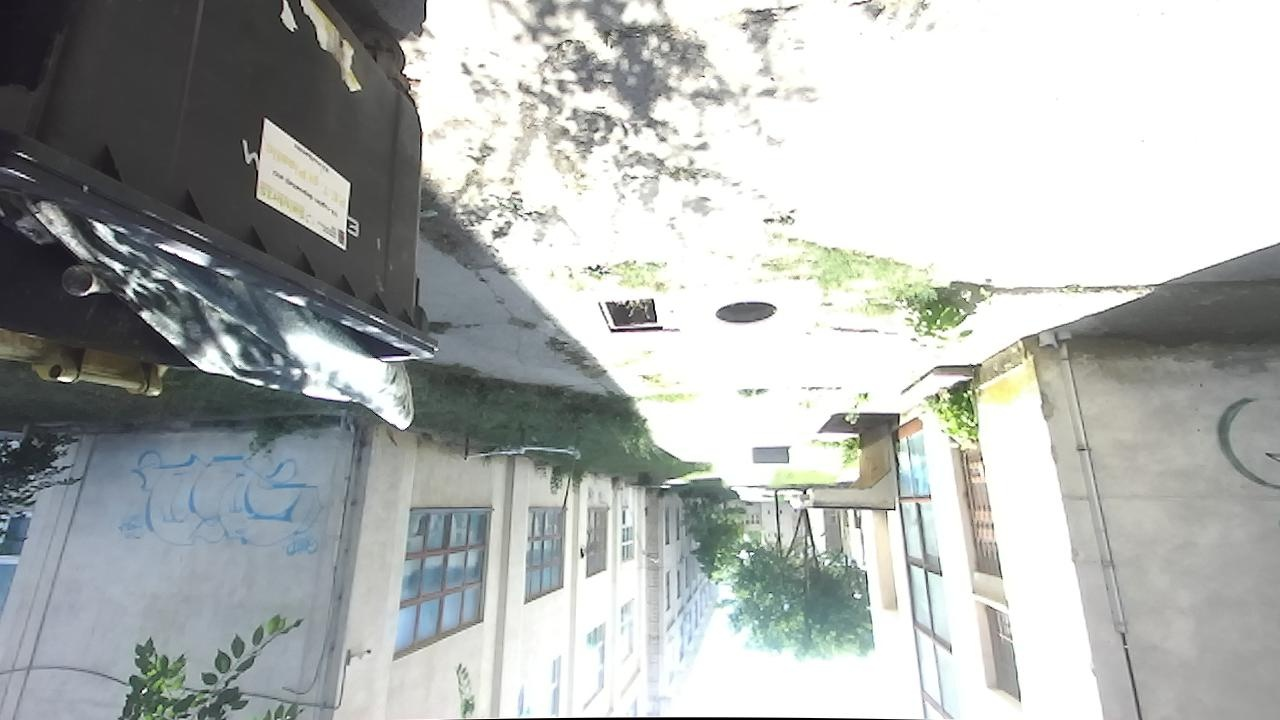drain: (602, 296, 666, 337), (715, 298, 776, 328)
